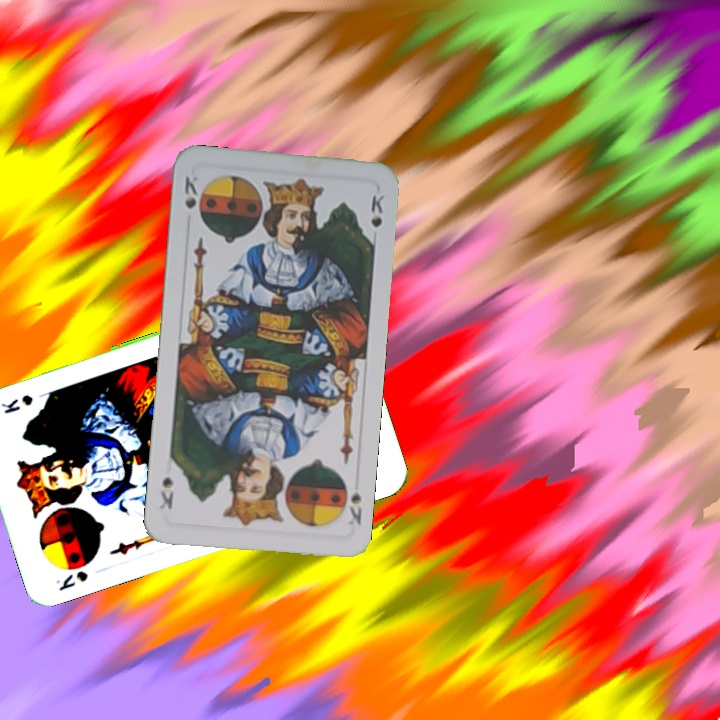SK: (51, 566, 91, 594), (344, 488, 365, 528), (180, 172, 200, 211)
